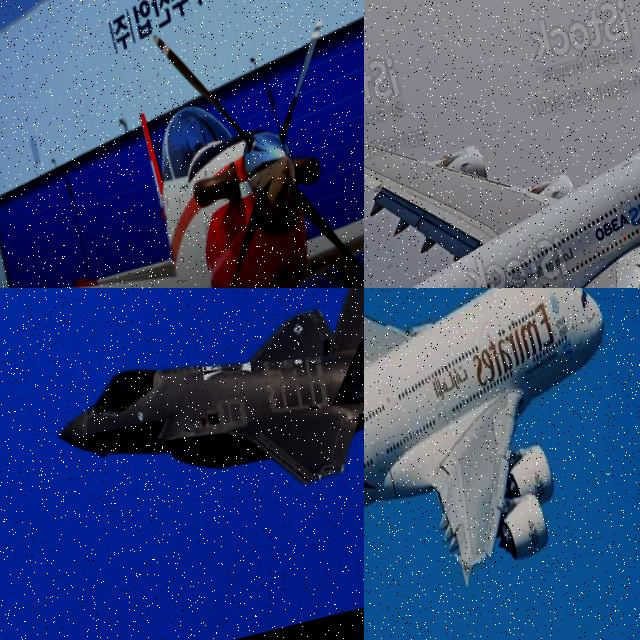A380: (364, 288, 640, 640), (364, 15, 640, 288)
F22: (32, 288, 364, 537)
KT-1: (0, 0, 364, 288)
